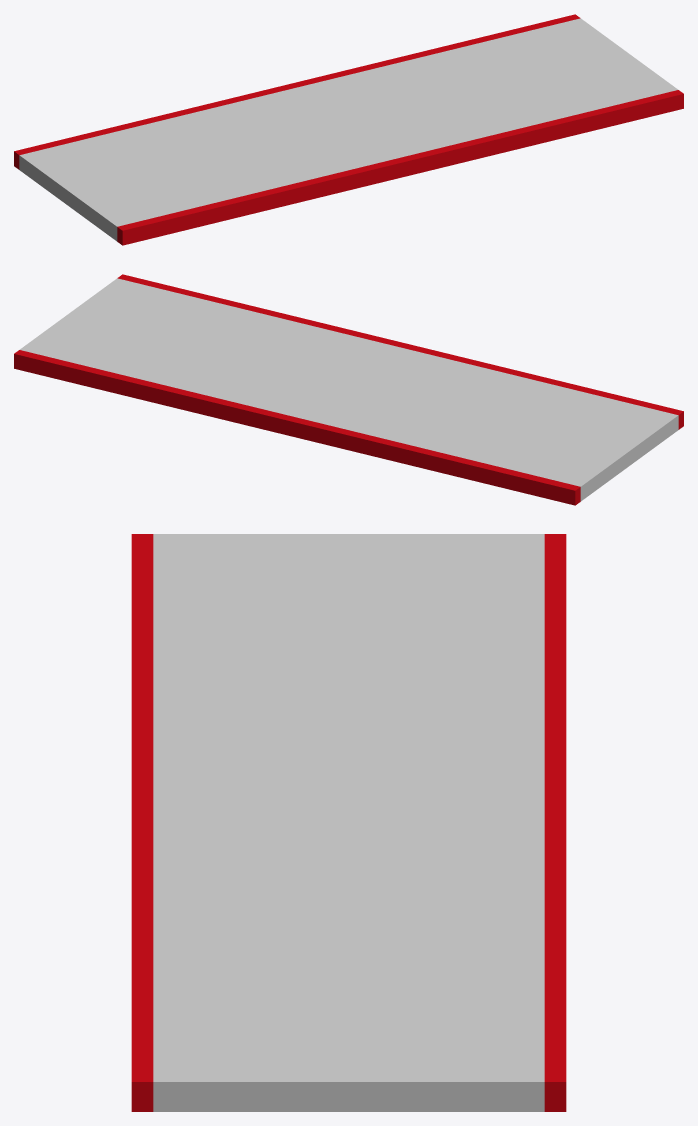
Rendered from widepathup.fbx.
3 views of the same model, one above another, from view 1: azimuth 30°, elevation 25°; view 2: azimuth 150°, elevation 25°; view 3: azimuth 270°, elevation 25° (orthographic). The views are drawn at different scales.
Parts seen in each view (by area): view 1: Cube; view 2: Cube; view 3: Cube.
Boxes of the visible parts, x1,y1,x2,y2 form: Cube: [14, 14, 683, 245]; Cube: [14, 274, 683, 505]; Cube: [131, 534, 566, 1111].
Size of the model in its own units: 1583 by 40.11 by 530.
